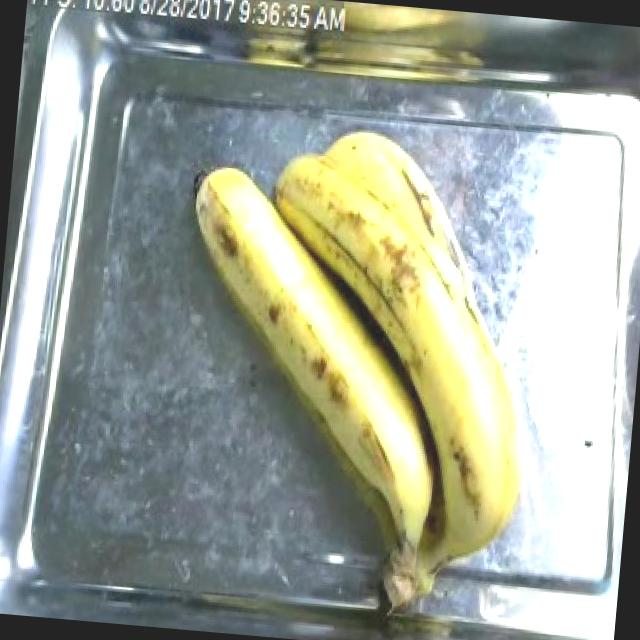Banana: (158, 112, 550, 620)
